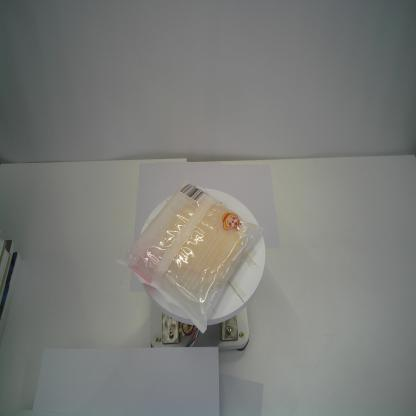Dessert: (112, 176, 265, 336)
